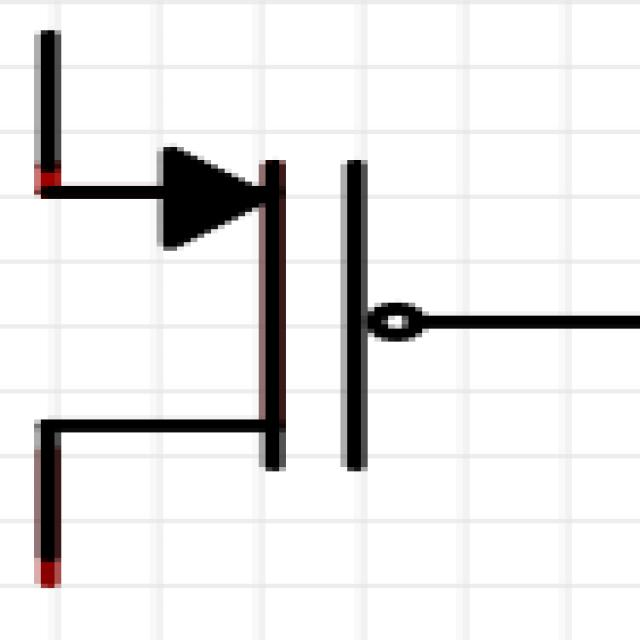pmos: (0, 50, 640, 607)
